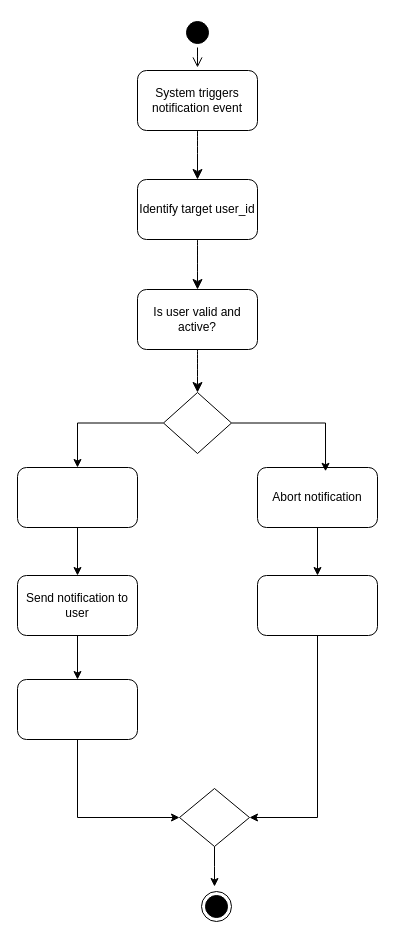
Image size: 395x939. Some labels were removed from this diagram. The shapes that lost their labels are listed below. From the top down, each one's centre as x and y in pixels, then its label:
At point 77,497: "Prepare message content".
At point 317,605: "Log failure reason".
At point 77,709: "Log notification event".
